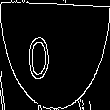O_N: (44, 28, 66, 82)
